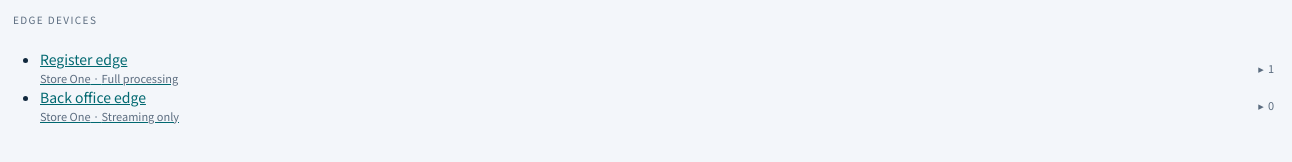
it: Side menu edge devices › lists each appliance with its cameras, linked to their live views
The image size is (1292, 162).
Expected: the text "Store One · Full processing" is shown, [40,70,178,86]
Click the button named "Cameras of Register edge" at (1266, 68), box [1252,52,1280,84]
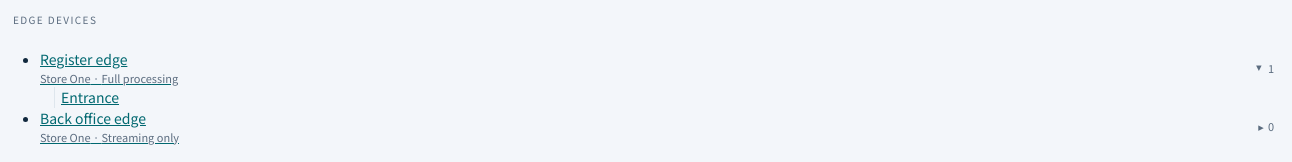
Expected: the button named "Cameras of Register edge" is expanded, [1252,52,1280,84]
